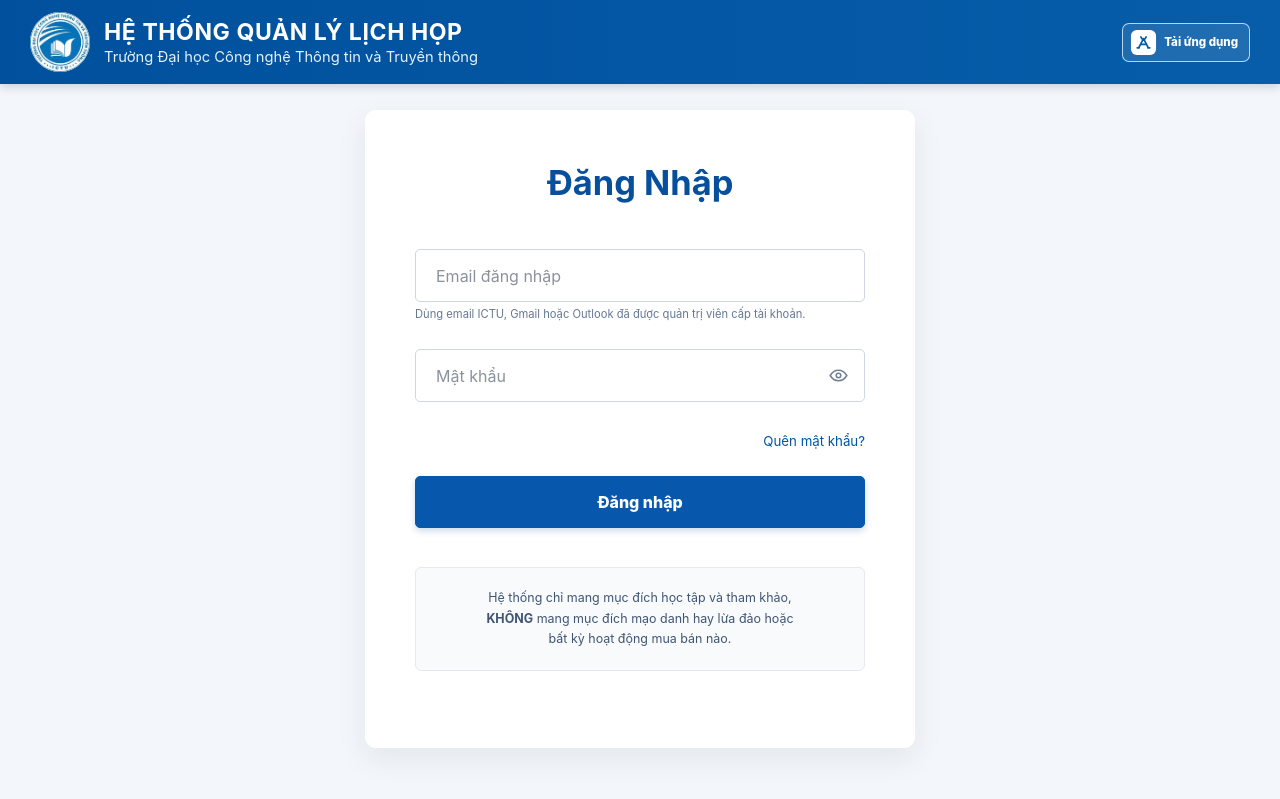
Scenario: LoginPage › shows inline validation matching the login design
The width and height of the screenshot is (1280, 799).
Click the button "Đăng nhập" at (640, 502), box [415,476,865,528]
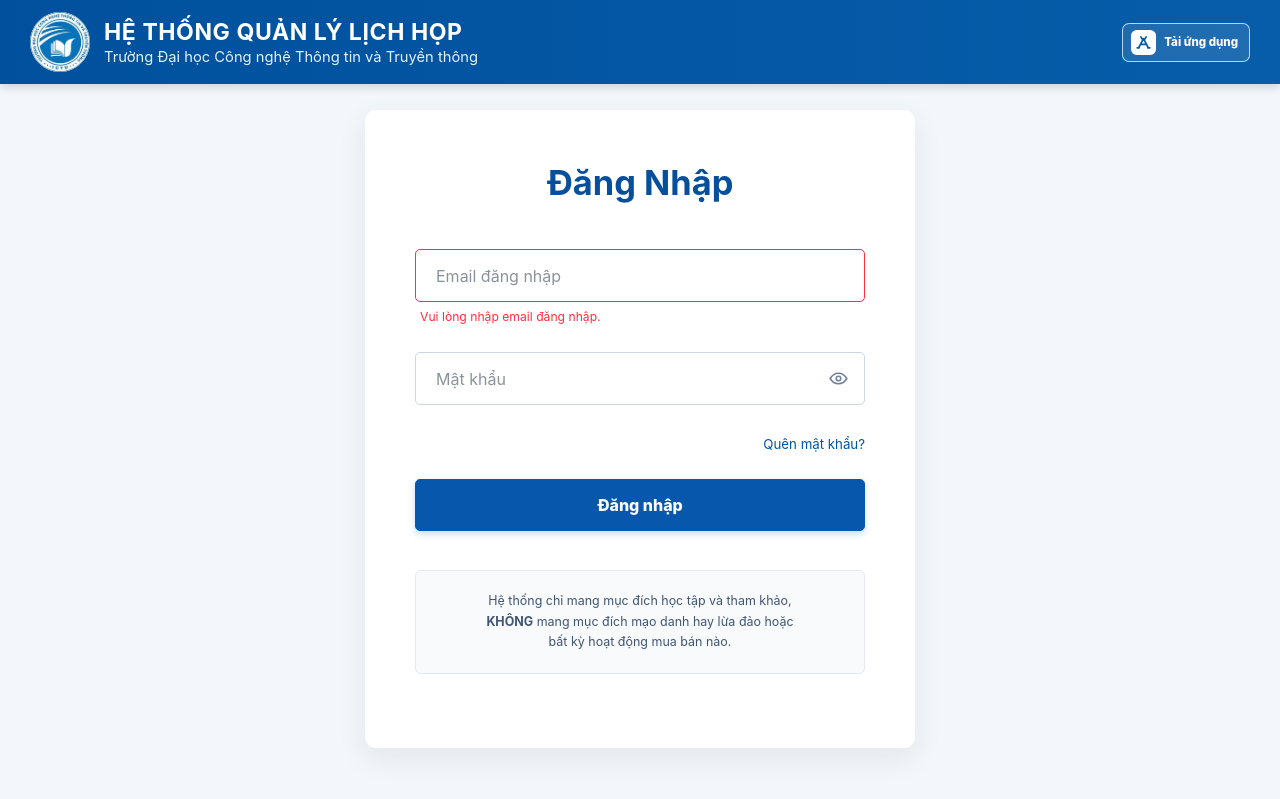
Now the text "Vui lòng nhập email đăng nhập." is shown, box [420,309,601,324]
